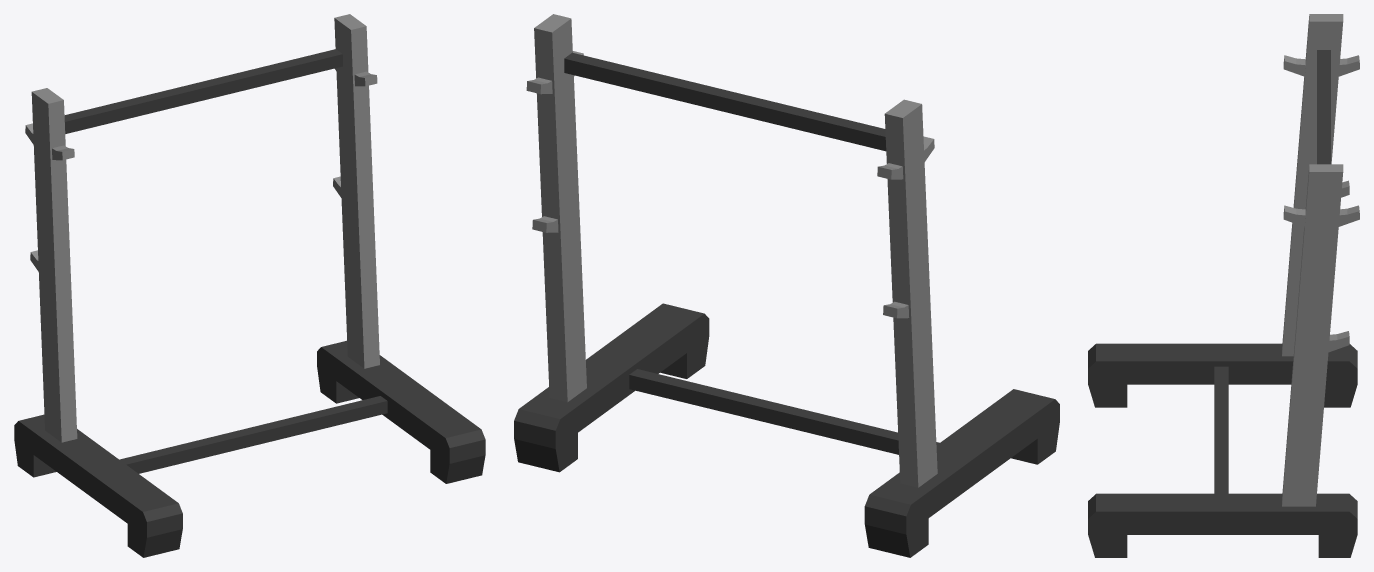
The model's file is weight_stand_3.glb.
3 renders of one model, left to right at view 1: azimuth 30°, elevation 25°; view 2: azimuth 150°, elevation 25°; view 3: azimuth 270°, elevation 25°, orthographic. The views are drawn at different scales.
Visible parts, largest first — view 1: Weight_Stand_3; view 2: Weight_Stand_3; view 3: Weight_Stand_3.
Part boxes in pixels (left/top/right/bottom): Weight_Stand_3: left=14, top=14, right=485, bottom=557; Weight_Stand_3: left=514, top=14, right=1059, bottom=557; Weight_Stand_3: left=1088, top=14, right=1359, bottom=557.
Size of the model in its own units: 1.24 by 1.31 by 0.8501.
1 material, 1 textured.
